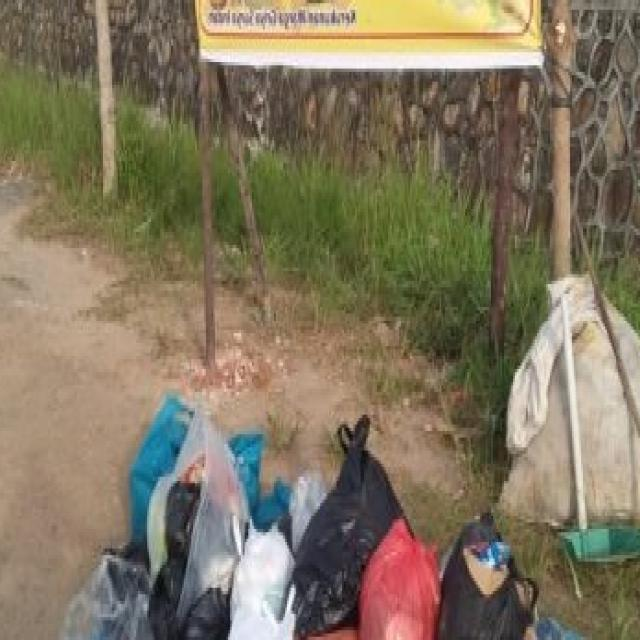Trashbag: (284, 410, 406, 633), (139, 483, 209, 629), (446, 541, 542, 640)
